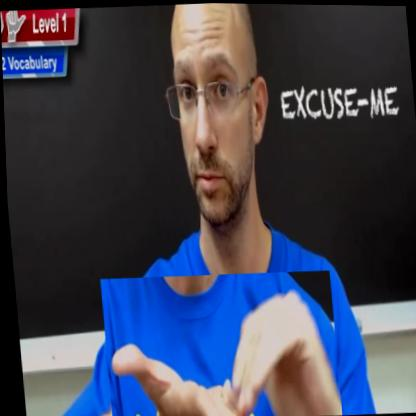ExcuseMe: (97, 266, 339, 416)
